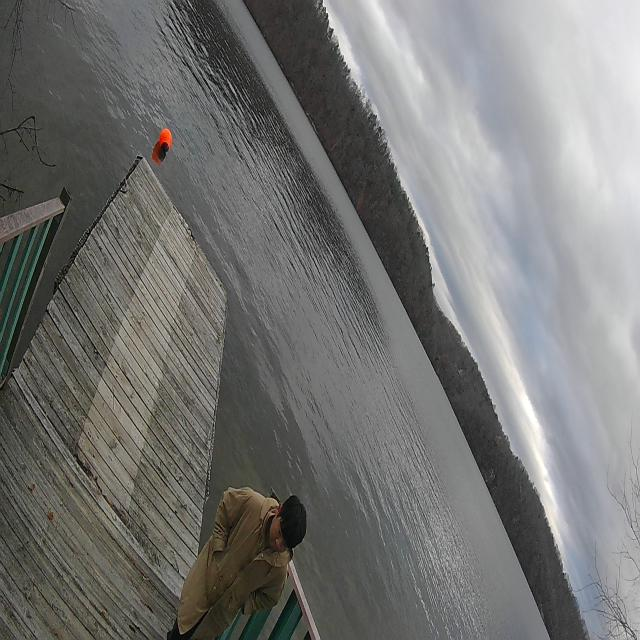Buoy: (150, 118, 177, 171)
